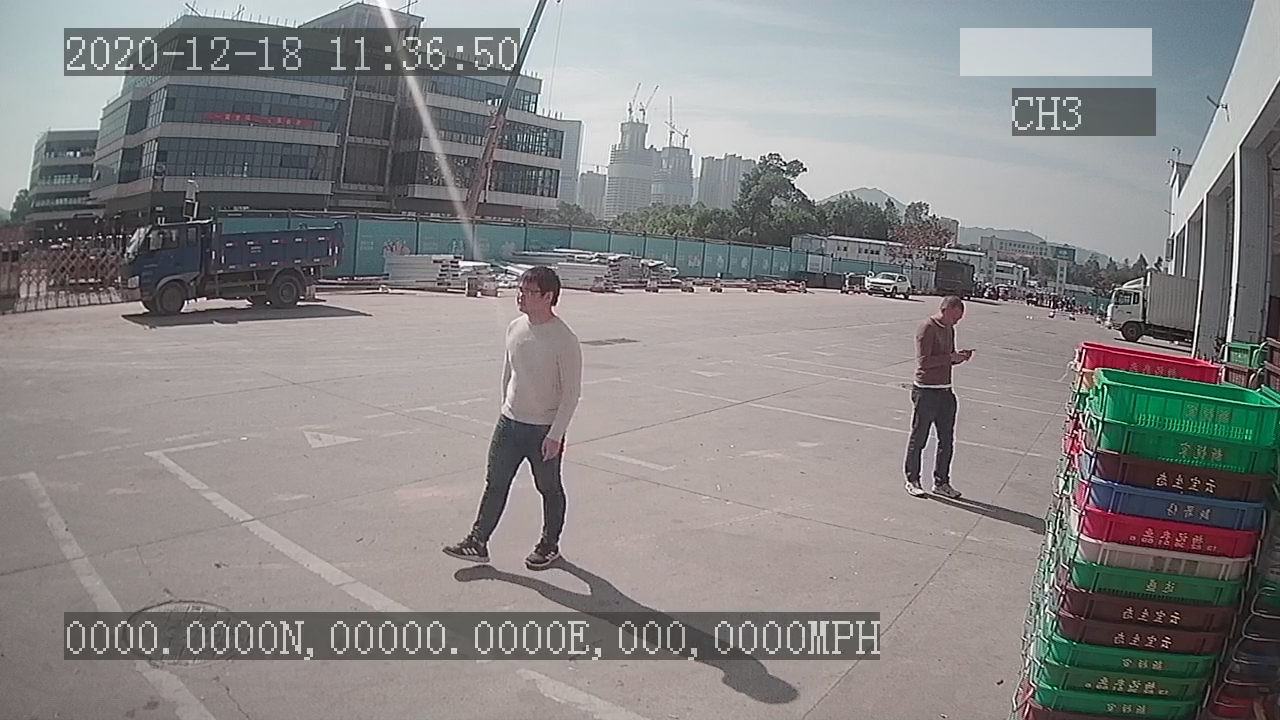person: (443, 256, 593, 579), (897, 294, 986, 504)
